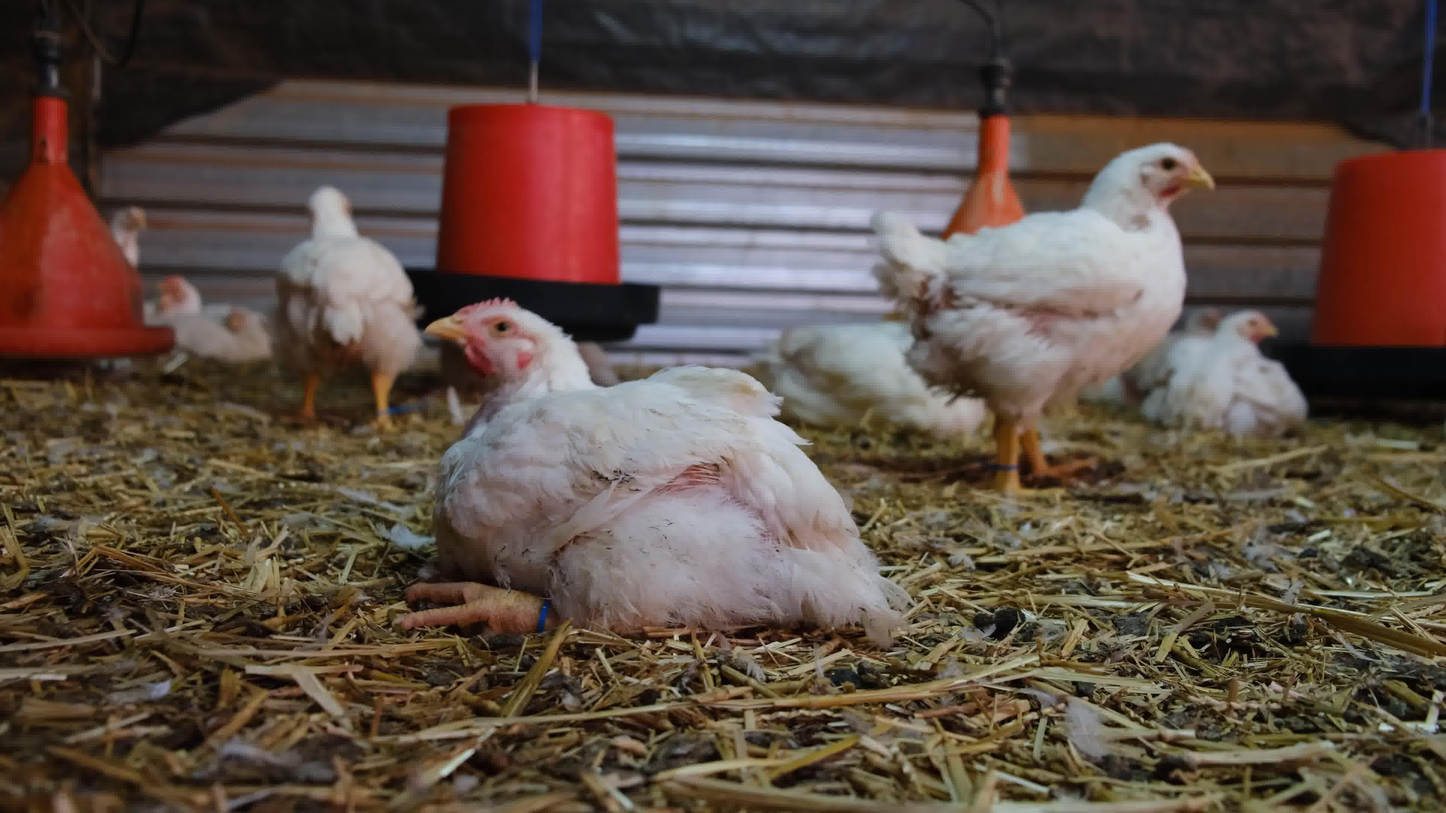AbNormal: (753, 295, 1020, 442), (1175, 311, 1333, 442), (153, 254, 277, 350), (92, 181, 175, 288)
Normal: (410, 271, 898, 640), (862, 139, 1220, 497), (271, 171, 439, 429)
